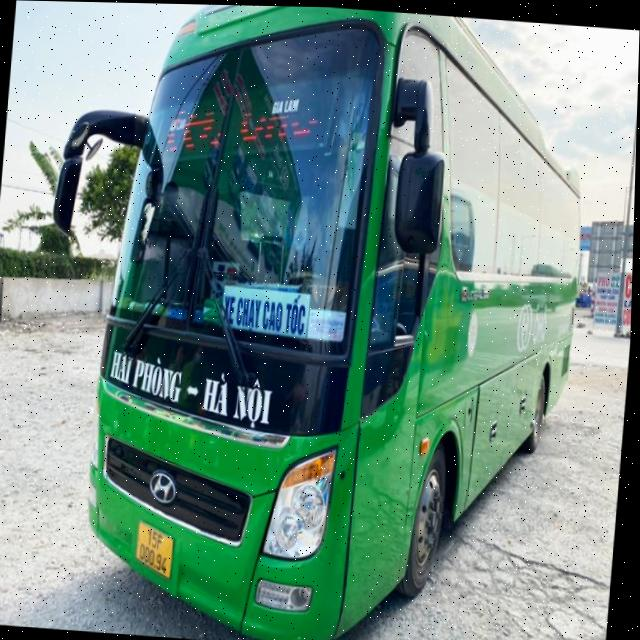car: (66, 2, 609, 640)
plate: (126, 521, 183, 585)
